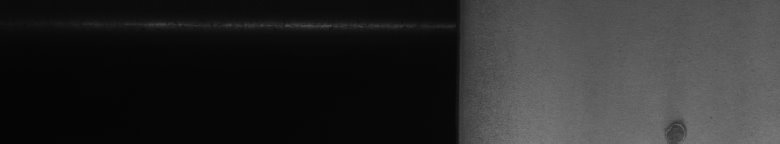fi: (660, 112, 692, 136)
